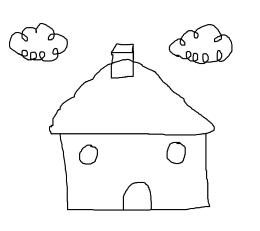chimney: (110, 43, 135, 80)
clouds: (166, 22, 234, 64), (5, 19, 68, 61)
door: (118, 174, 157, 217)
open_window: (164, 140, 187, 166), (76, 143, 101, 166)
roof: (47, 58, 217, 134)
wall: (56, 127, 210, 211)
